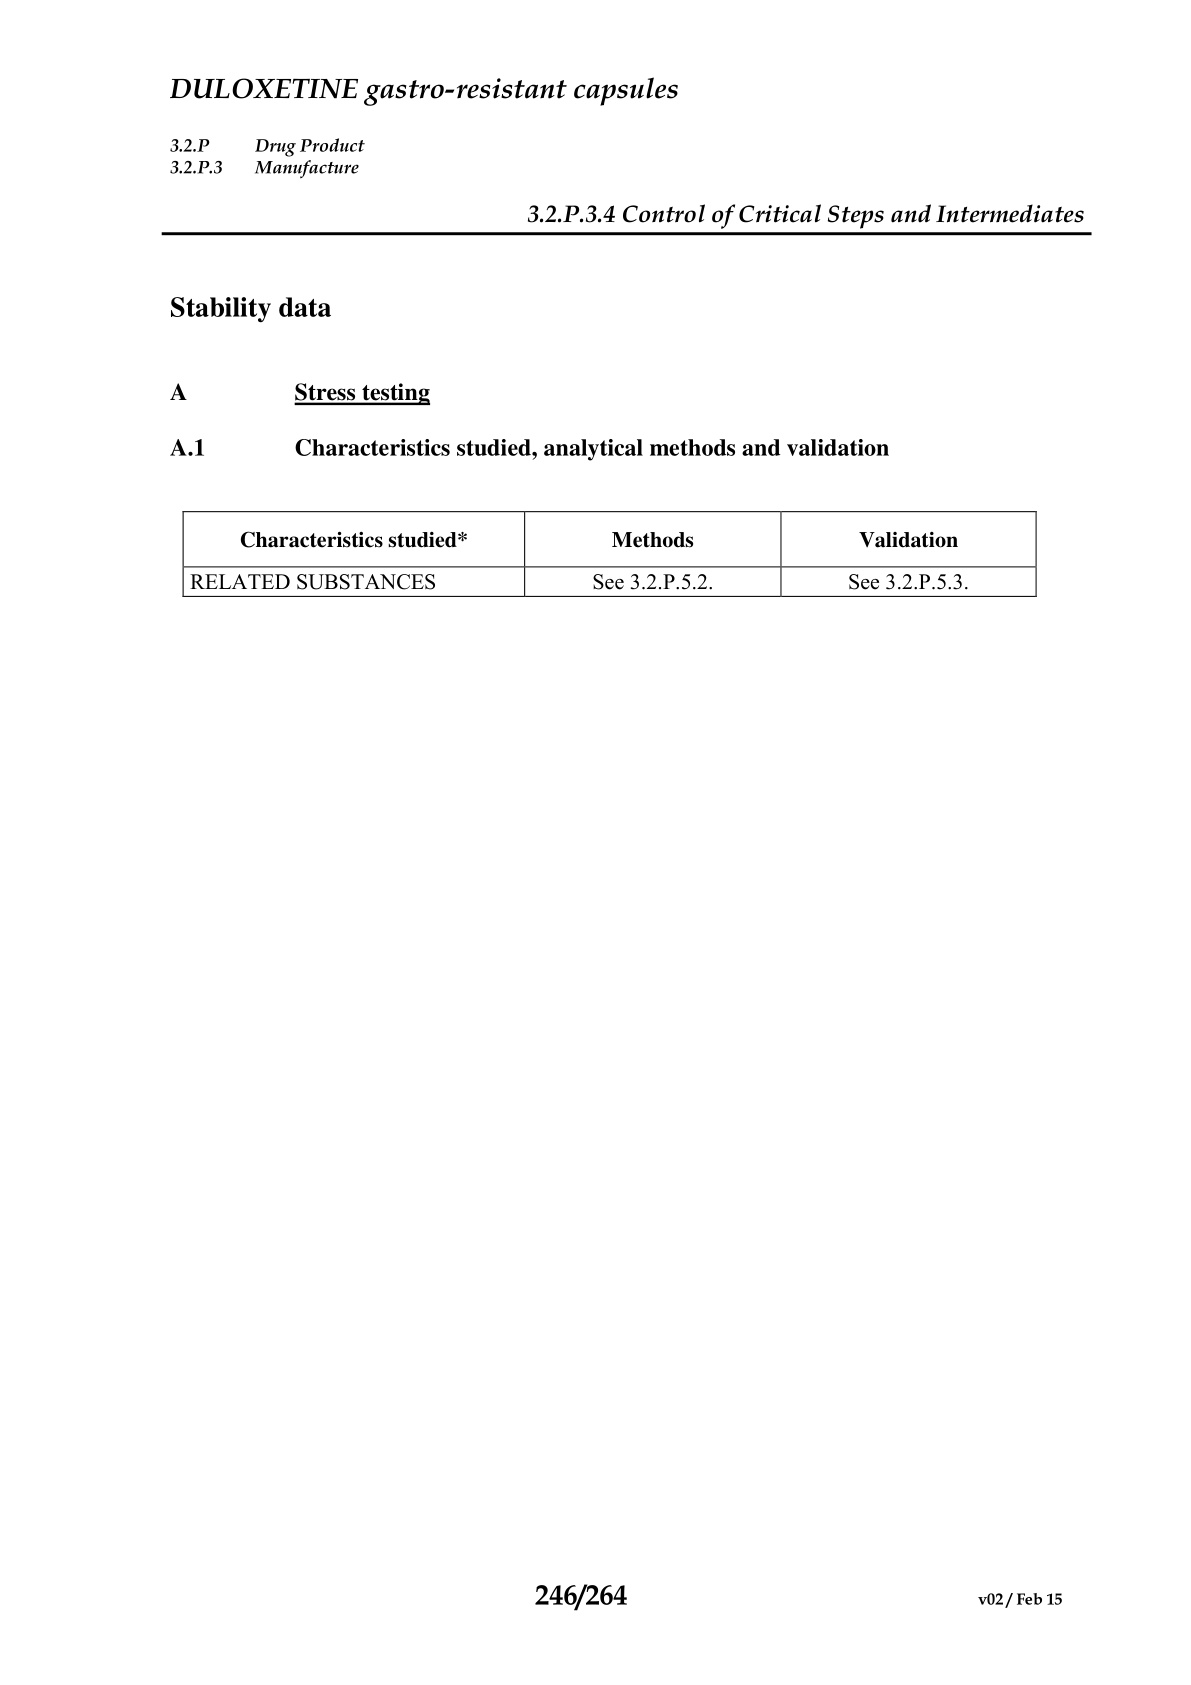full_lined: (182, 511, 1038, 598)
